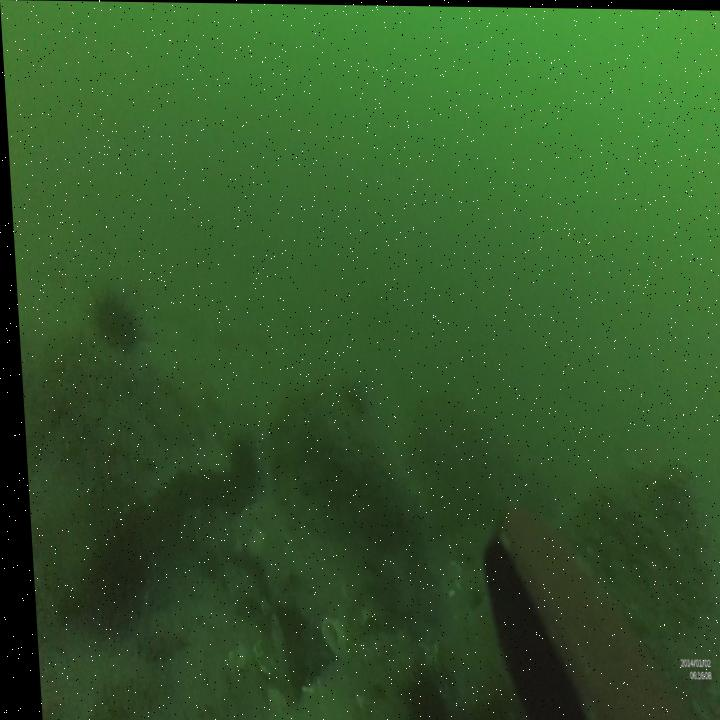echinus: (86, 284, 140, 347)
